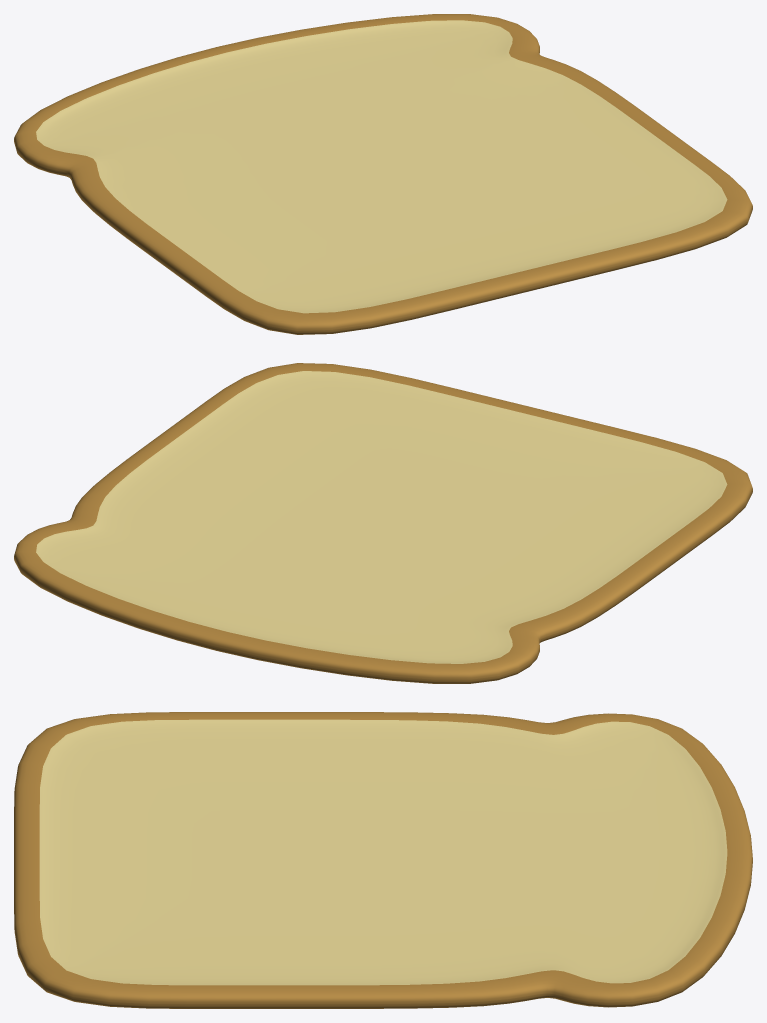
File: Bread.fbx
The picture shows the model from 3 angles, top to bottom: view 1: azimuth 30°, elevation 25°; view 2: azimuth 150°, elevation 25°; view 3: azimuth 270°, elevation 25°; orthographic projection. The views are drawn at different scales.
Visible parts, largest first — view 1: Plane.002, Plane.003; view 2: Plane.002, Plane.003; view 3: Plane.002, Plane.003.
Boxes of the visible parts, <box> form: Plane.002: <box>14,14,752,330</box>; Plane.003: <box>14,141,752,334</box>; Plane.002: <box>14,363,752,679</box>; Plane.003: <box>14,491,752,683</box>; Plane.002: <box>14,712,752,1003</box>; Plane.003: <box>14,862,752,1008</box>.
Size of the model in its own units: 220 by 5.84 by 239.
